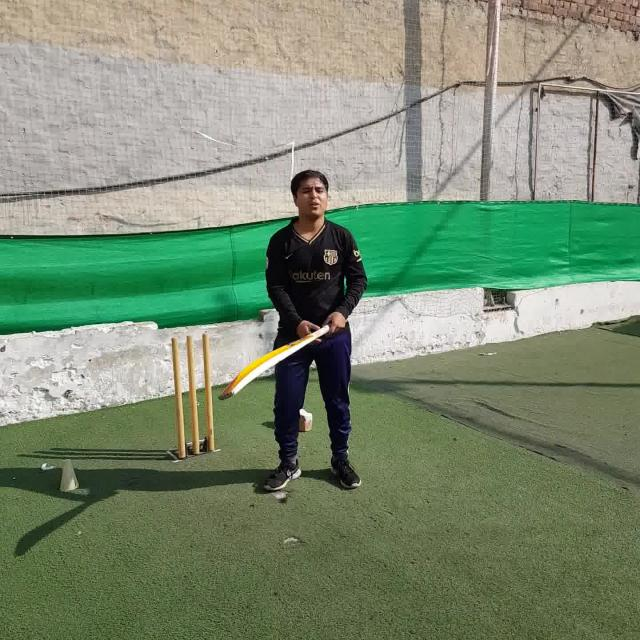bat: (221, 320, 343, 399)
